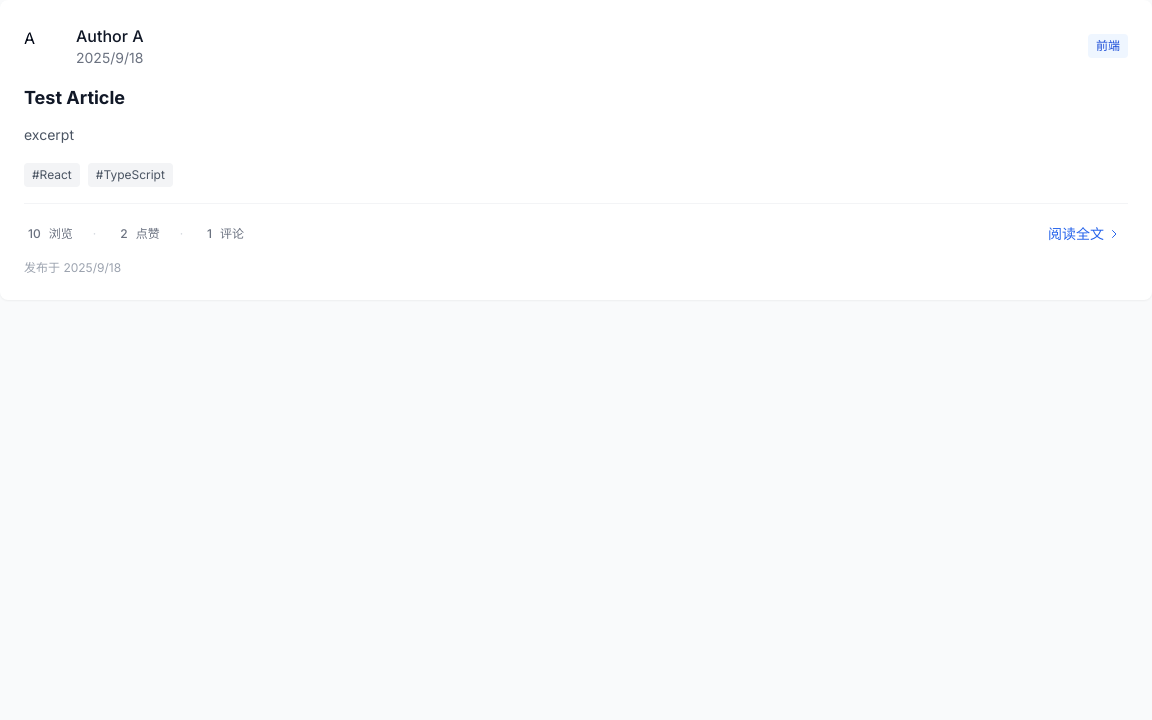
Test case: ArticleCard - profile preview › 点击头像或名字应显示个人资料预览
Click the button "Author A".
click(110, 36)  # box [76,24,144,48]
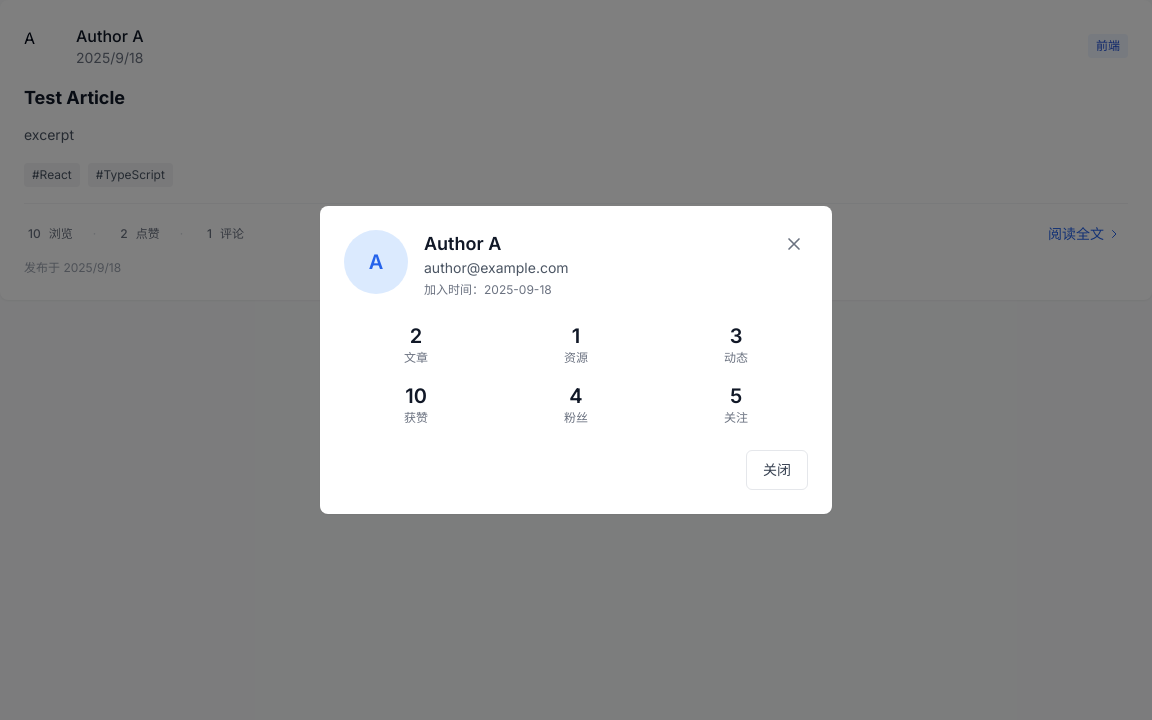
Check: the button "关闭" is shown, box [746,450,808,490]
